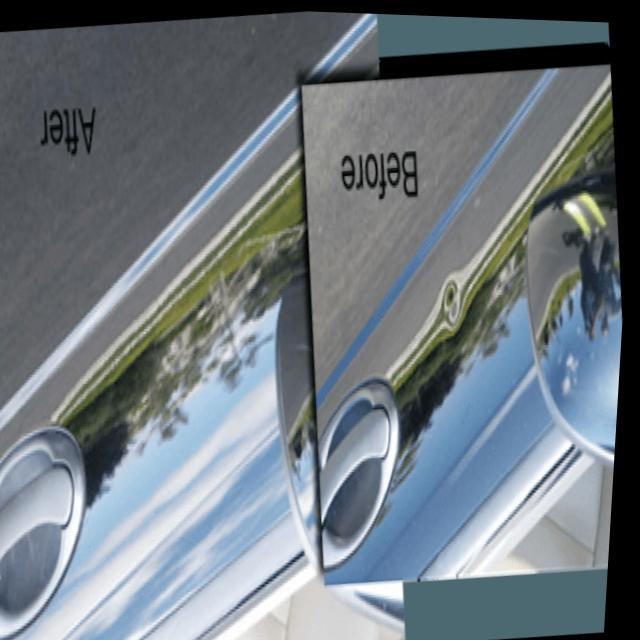Dent: (423, 249, 496, 351)
